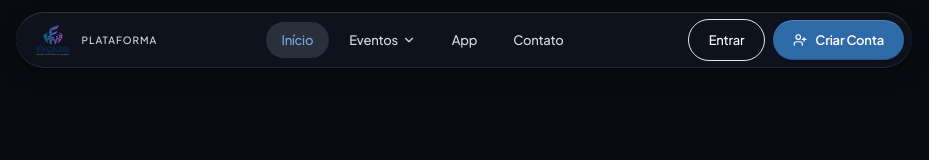
Header em pílula (menu do topo) › painel de eventos: abre e fecha por clique e por Esc, aria-expanded certo, foco volta ao botão
Step 1. Click the button "Eventos" → x=382, y=40, box top-left (333, 22), bottom-right (432, 58)
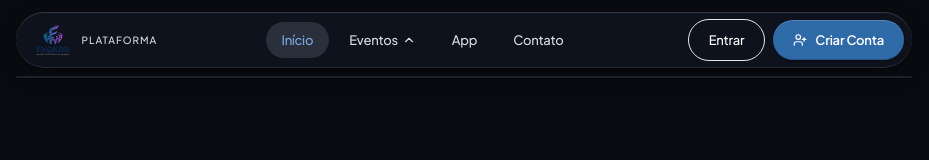
Now the button "Eventos" is expanded
Step 2. Click the button "Eventos" → x=382, y=40, box top-left (333, 22), bottom-right (432, 58)
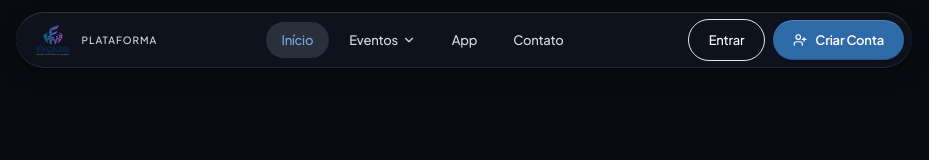
Now the button "Eventos" is collapsed
Step 3. Click the button "Eventos" → x=382, y=40, box top-left (333, 22), bottom-right (432, 58)
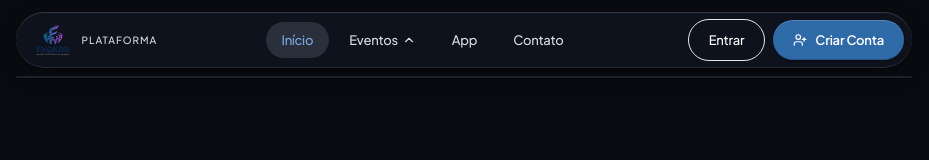
Step 4. Press Escape
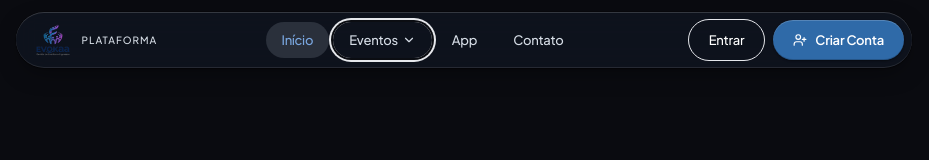
Now the button "Eventos" is collapsed, box top-left (333, 22), bottom-right (432, 58)
